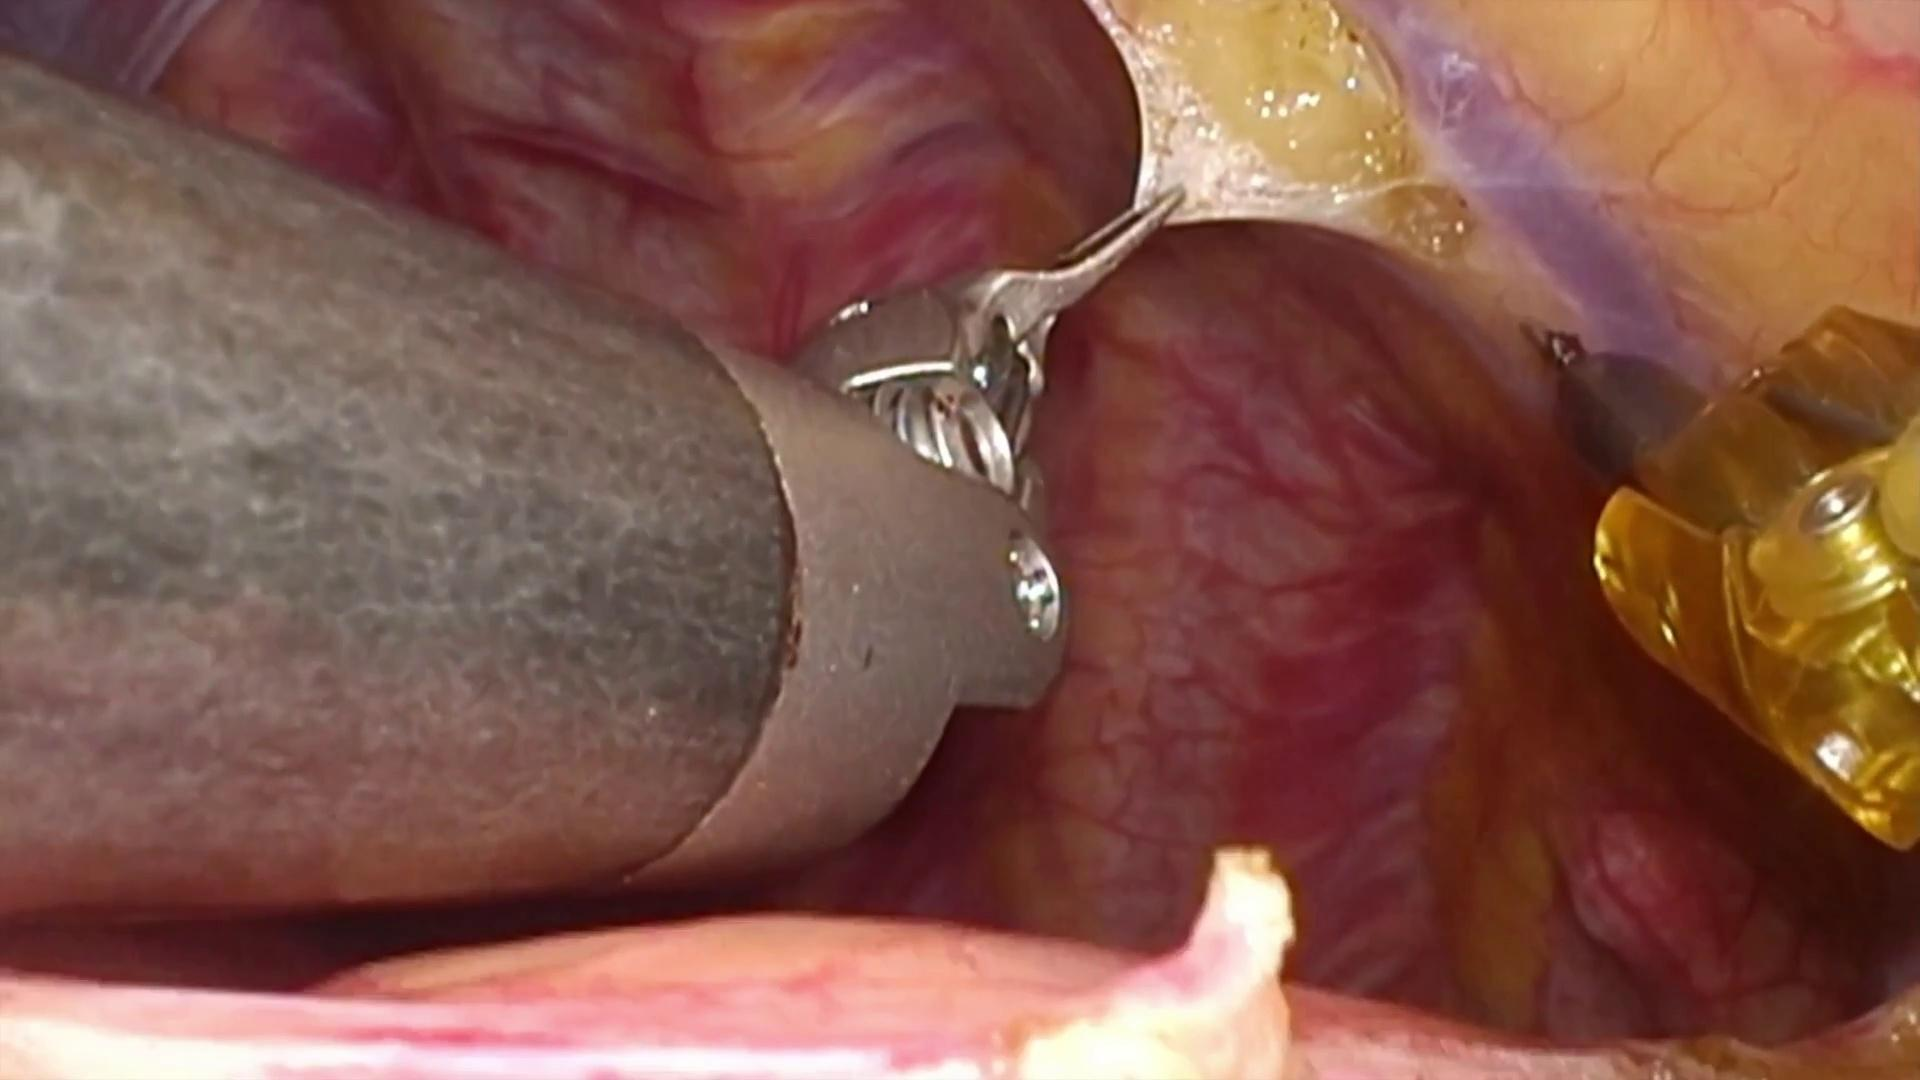Cautery_Spatula: (1514, 309, 1724, 480)
Debakey: (938, 146, 1195, 430)
